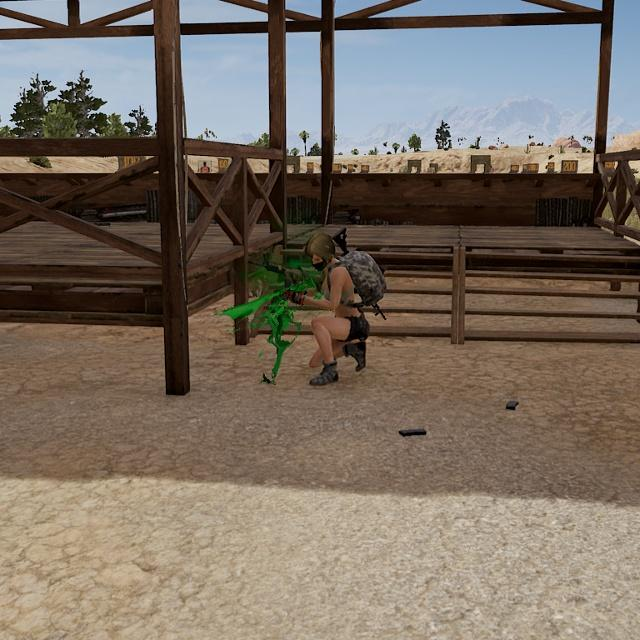head: (302, 228, 342, 275)
people: (287, 221, 388, 393)
